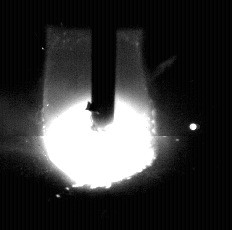arame: (93, 0, 116, 132)
poca: (43, 0, 156, 230)
